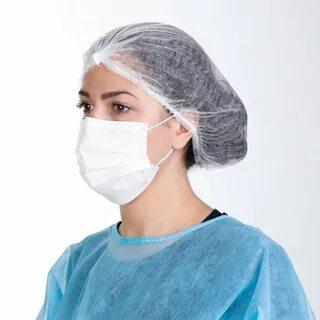hairnet: (86, 13, 281, 162)
mask: (60, 111, 200, 238)
